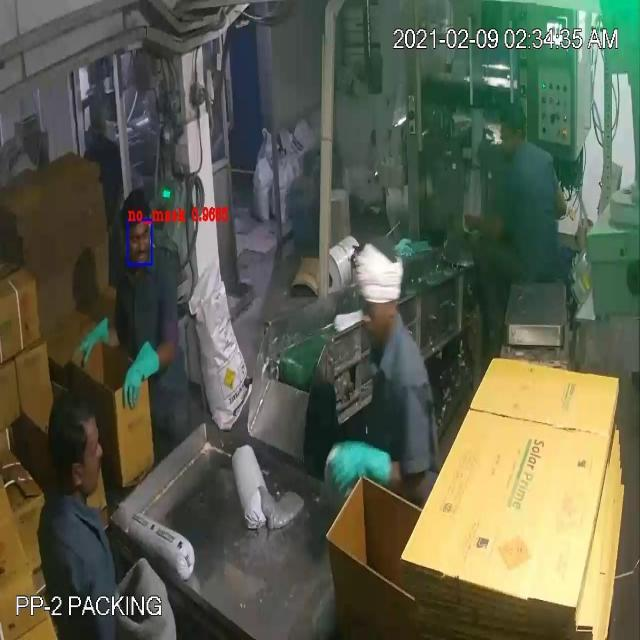Gloves: (52, 47, 488, 472)
